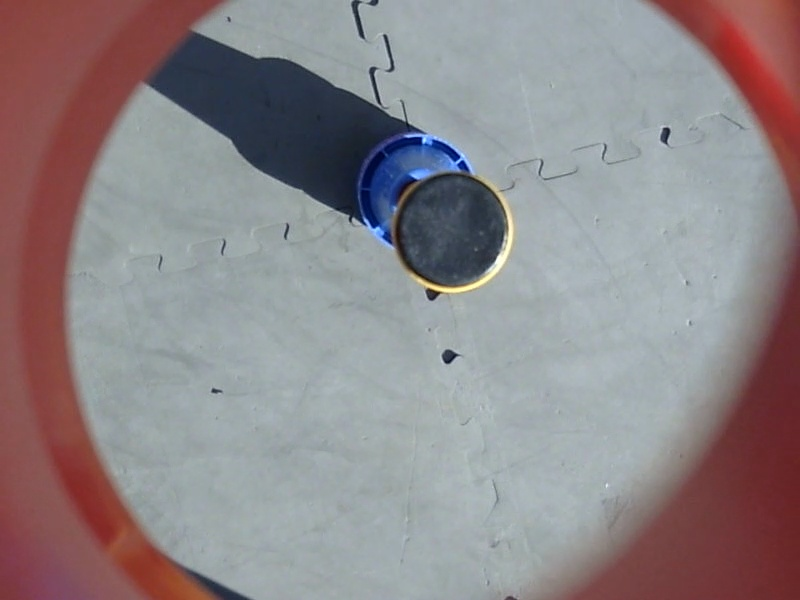tip: (384, 163, 521, 301)
